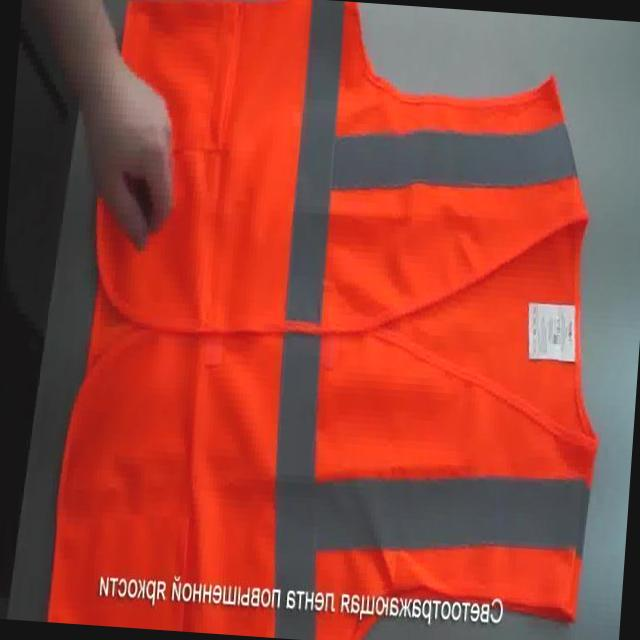no-gloves: (69, 67, 193, 244)
vest: (47, 0, 629, 640)
